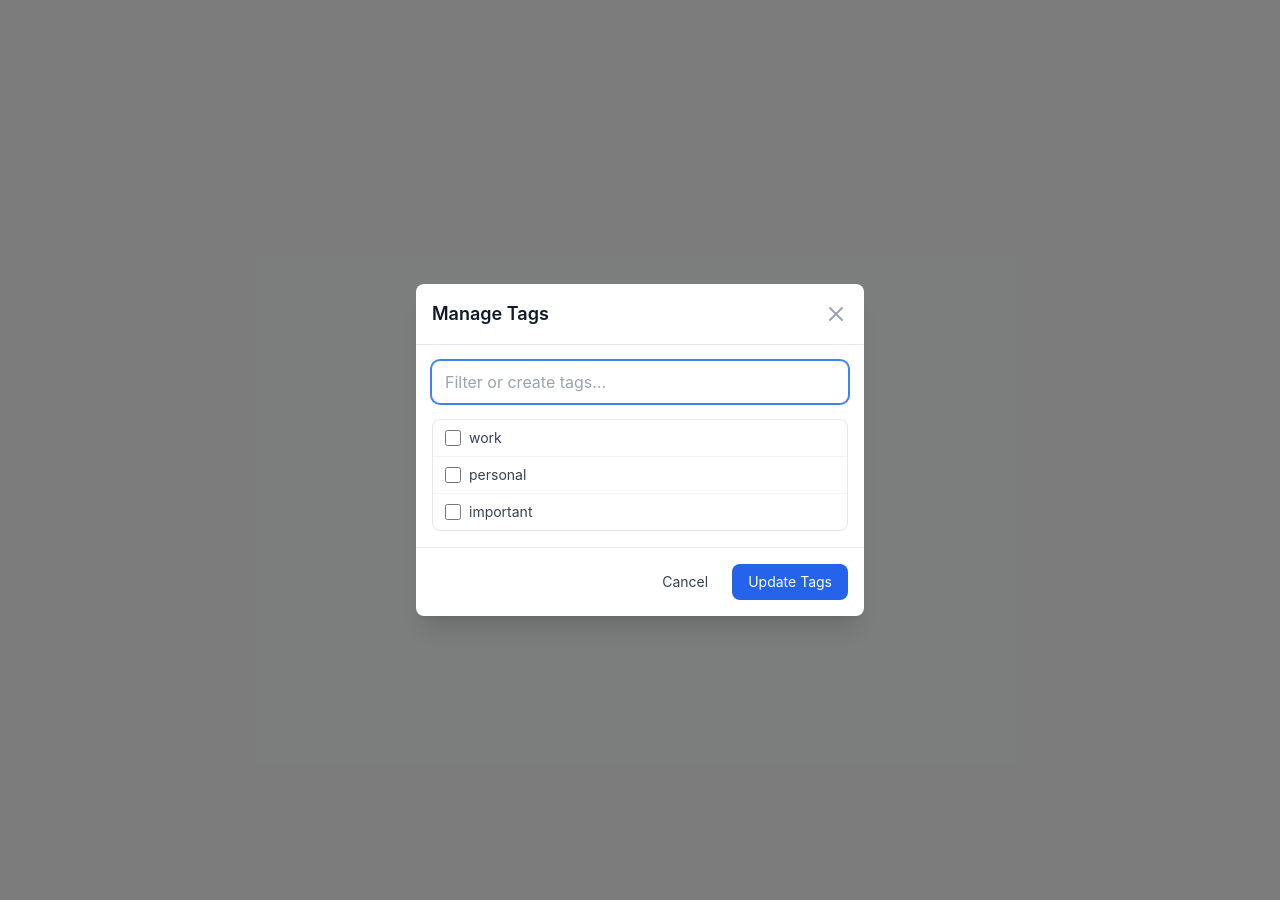
Test: TagModal › shows create button for new tag
Type "newtag" into the field with placeholder "Filter or create tags...". click: (640, 382)
box: [432,361,848,403]
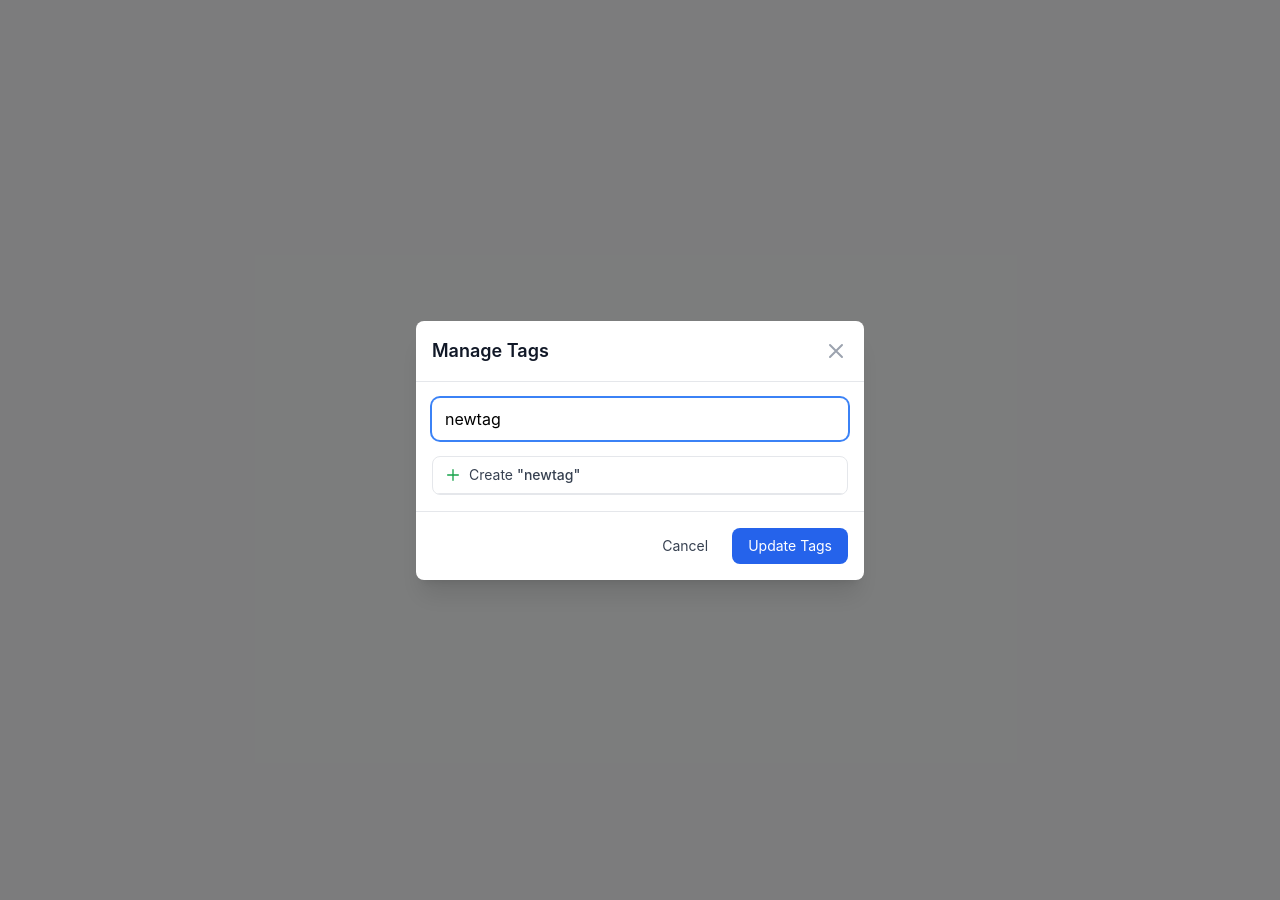
Expected: the text "Create \"newtag\"" is shown, [469,464,580,484]
Expected: the text "\"newtag\"" is shown, [517,466,580,482]
